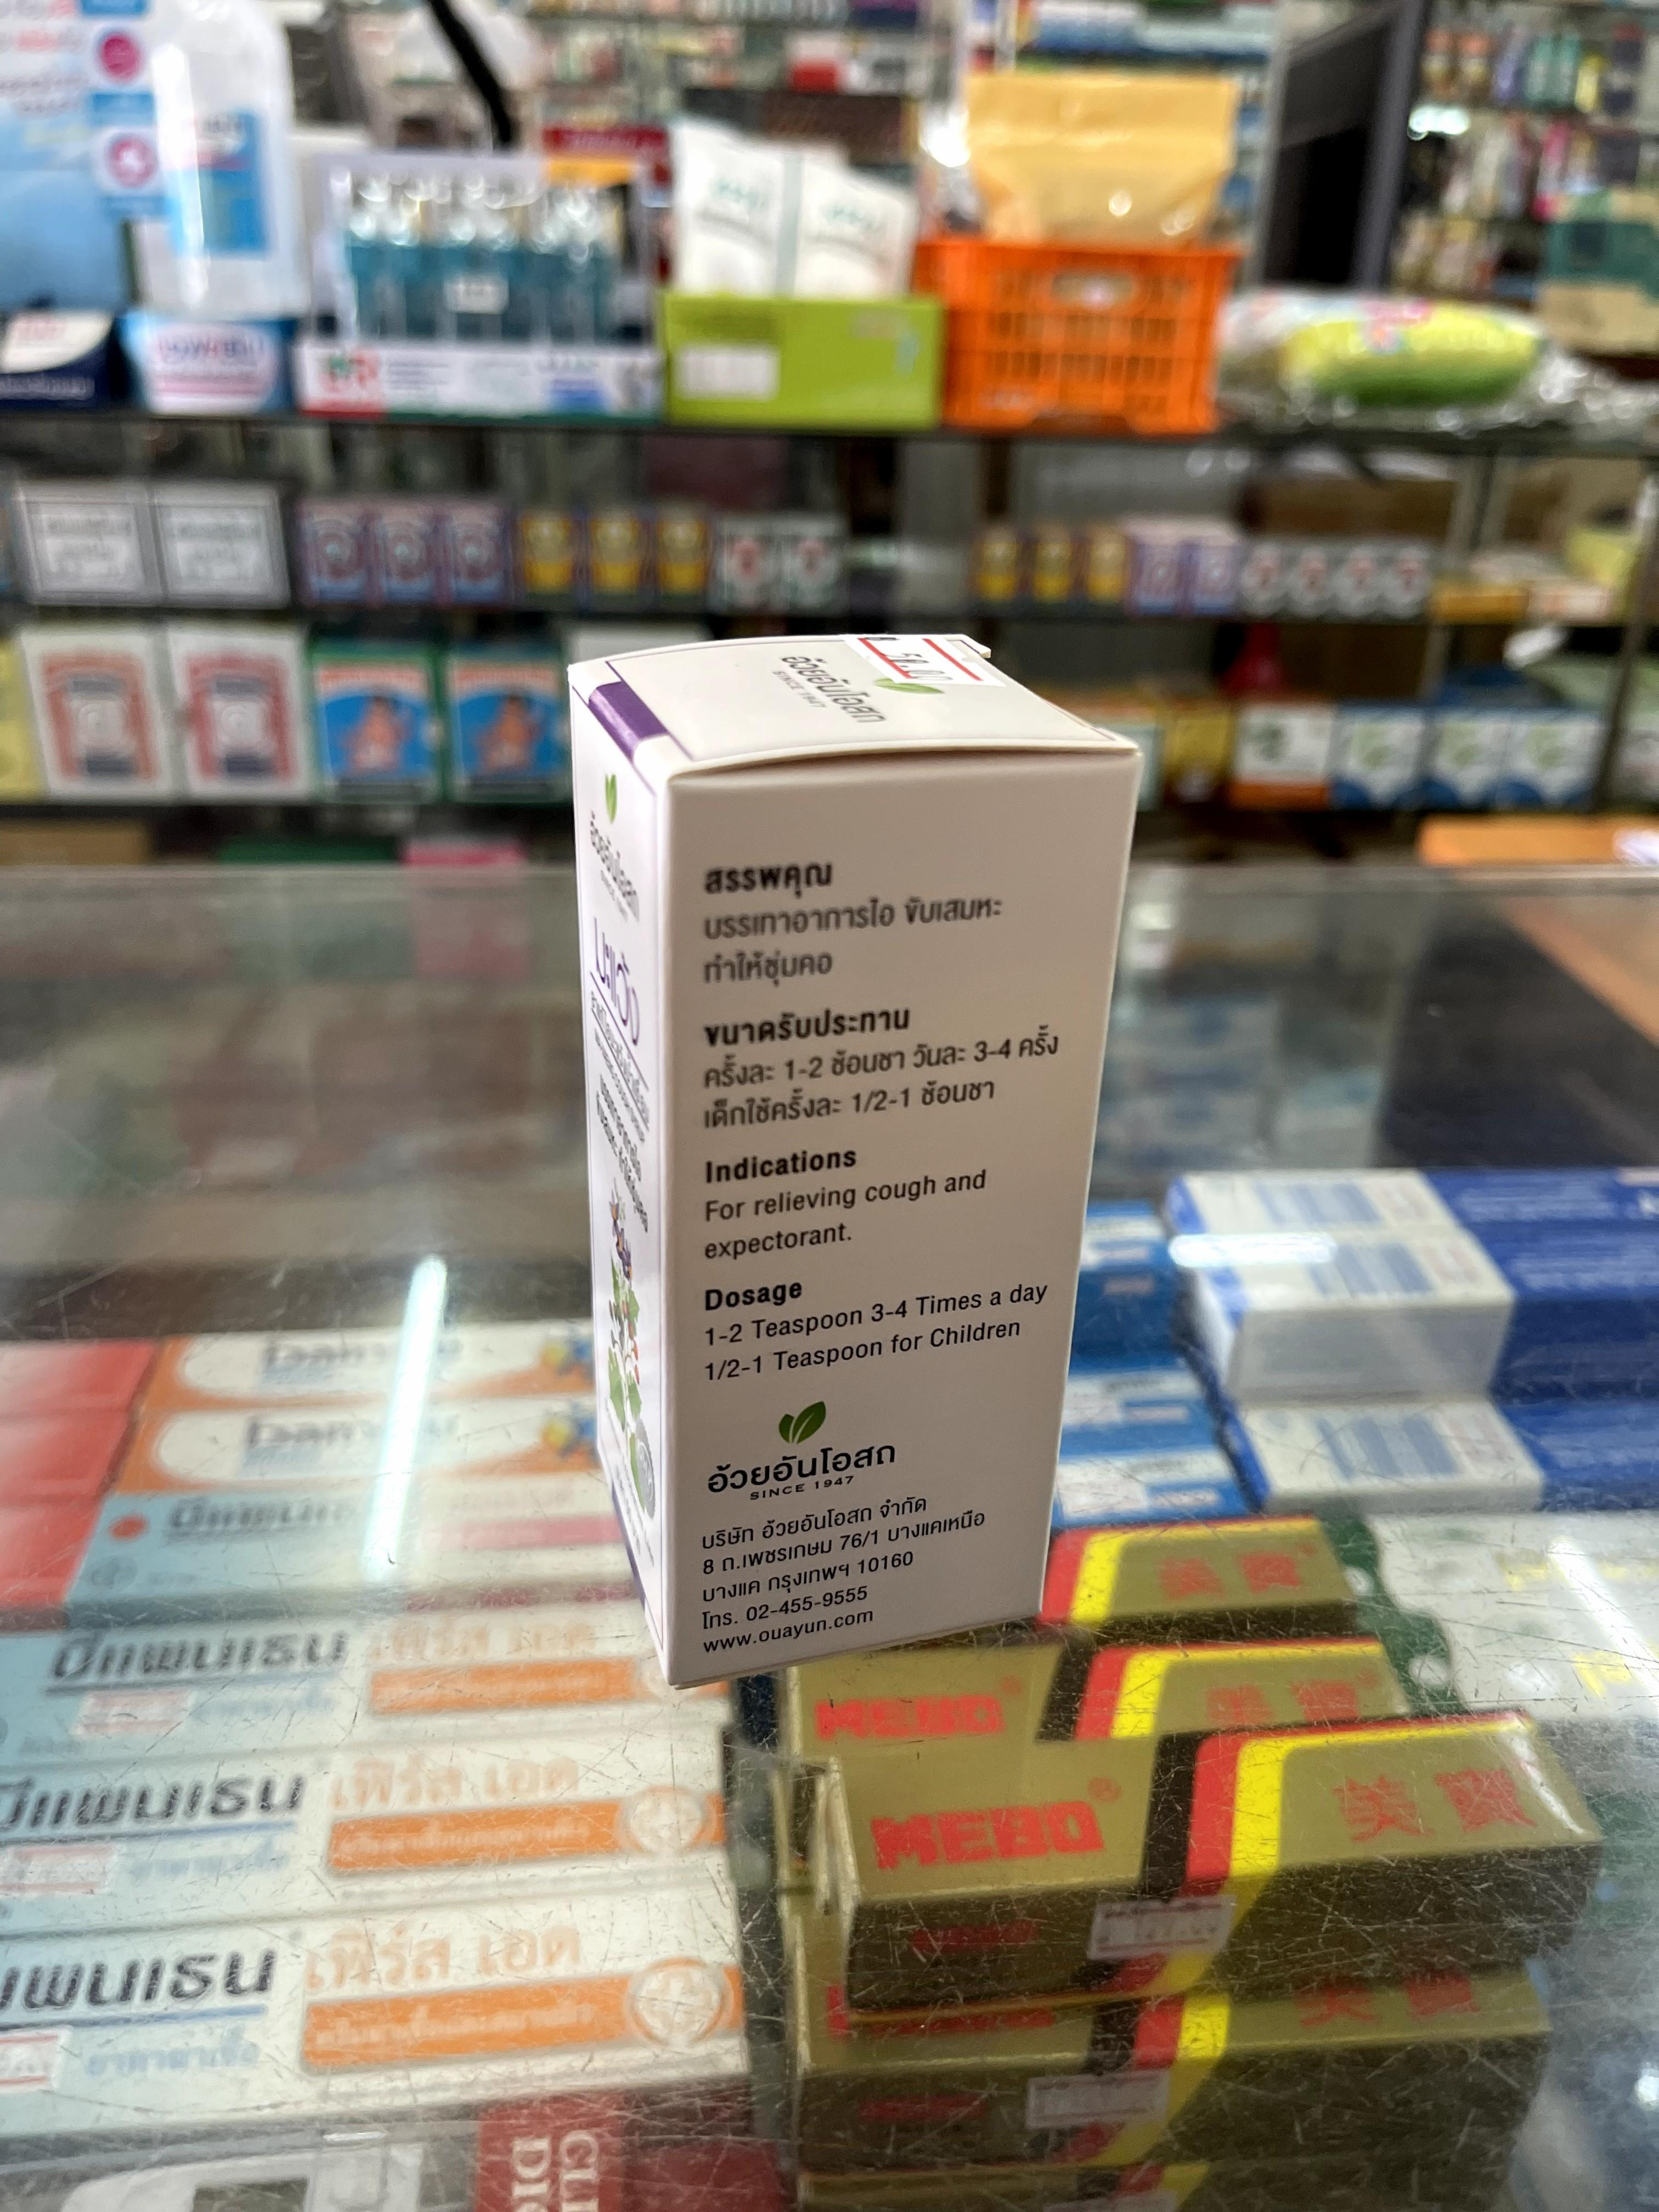Ma-Vaeng_Syrup: (573, 639, 1133, 1684)
